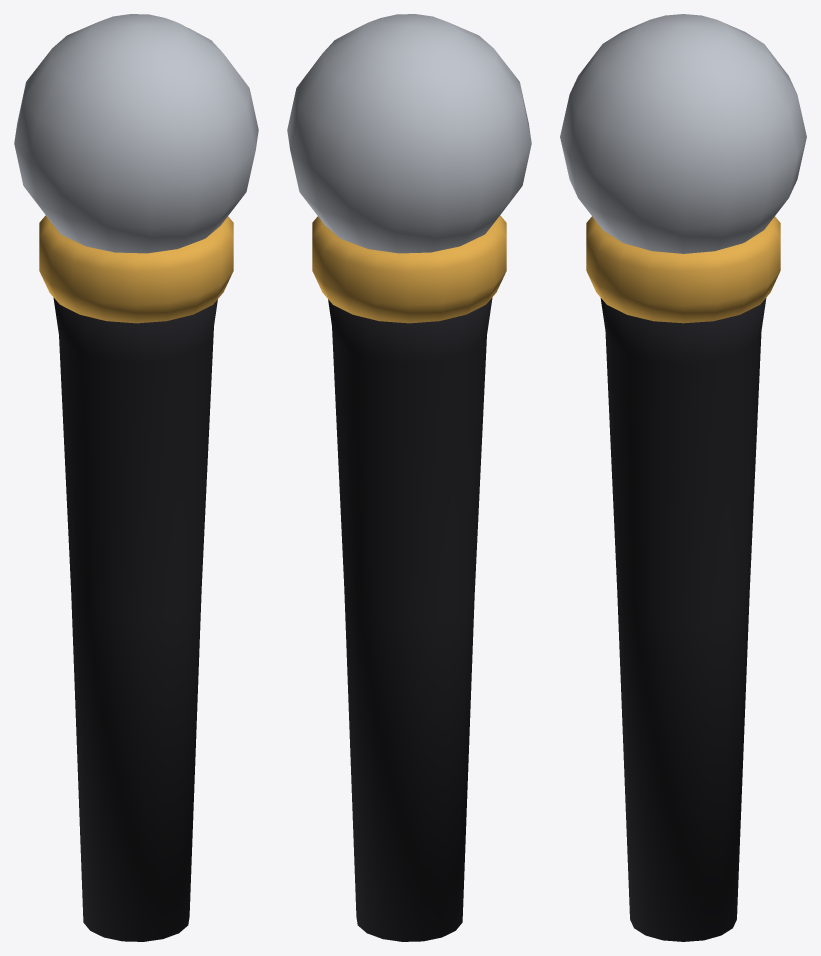
File: microphone.glb
3 views of the same model, side by side, from view 1: azimuth 30°, elevation 25°; view 2: azimuth 150°, elevation 25°; view 3: azimuth 270°, elevation 25° (orthographic).
Parts seen in each view (by area): view 1: microphone; view 2: microphone; view 3: microphone.
Part boxes in pixels (x1,y1,x2,y2): microphone: (14, 14, 258, 941); microphone: (287, 14, 531, 941); microphone: (560, 14, 806, 941).
Bounding box in the file's own units: 0.0598 × 0.2417 × 0.0601.
